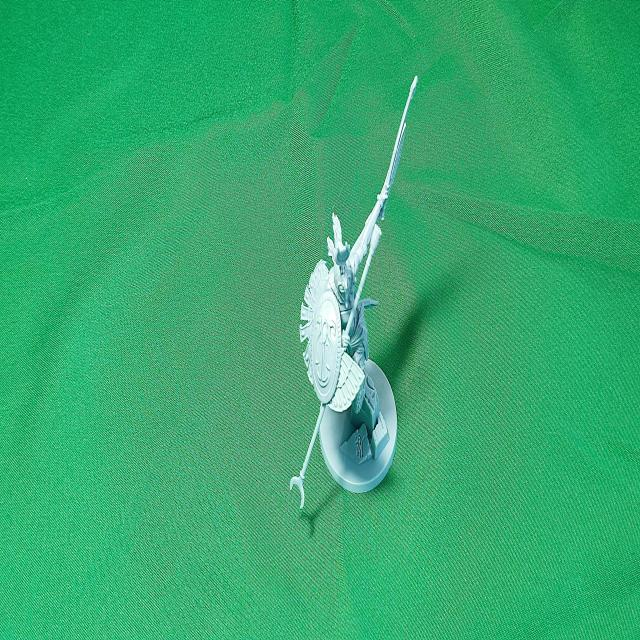isis: (268, 2, 428, 640)
